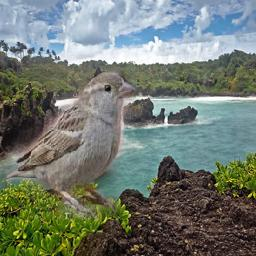Sparrow: (4, 72, 136, 221)
